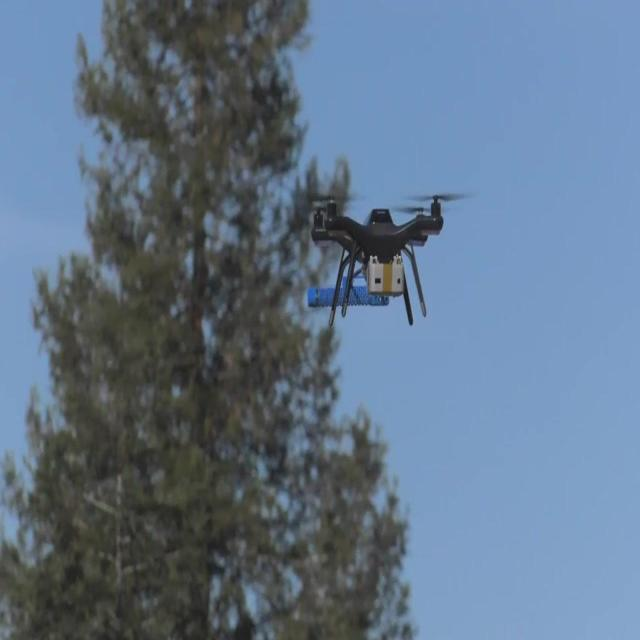drone: (305, 194, 446, 328)
